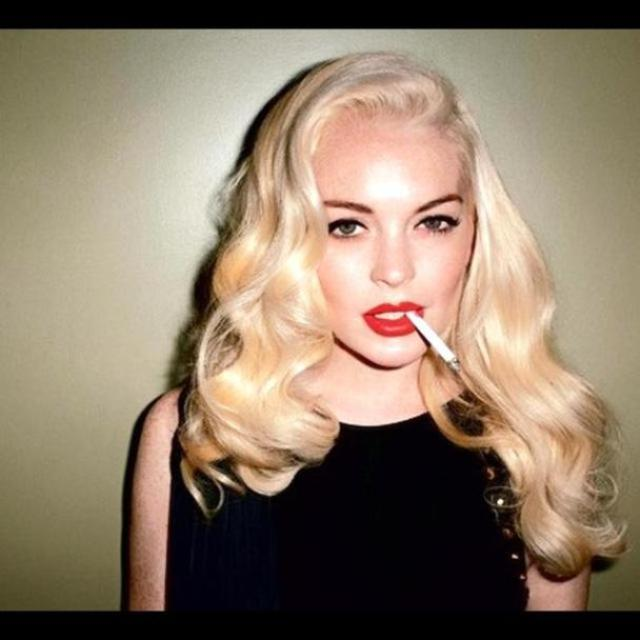rokok: (368, 292, 464, 368)
